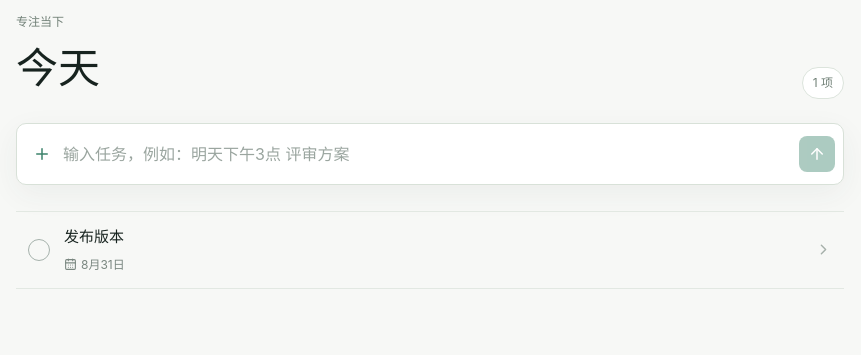
Test: TaskListPage › shows the domain guard when completing a parent with pending children
The width and height of the screenshot is (861, 355).
What coordinates should you click on to do the following:
click the checkbox named "完成“发布版本”"
I would click on:
 (39, 250)
Its box is x1=28 y1=239 x2=50 y2=261.
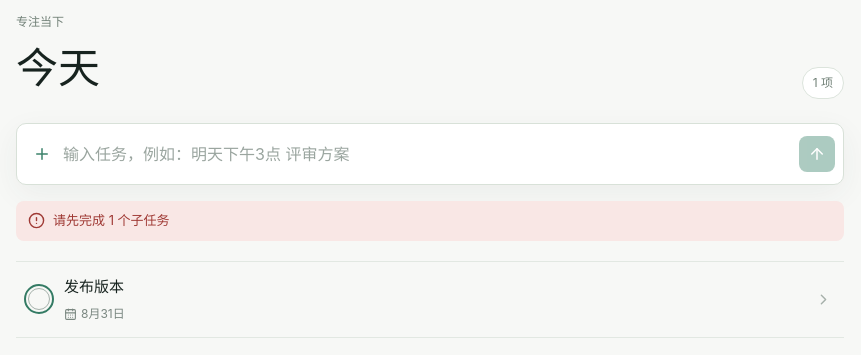
Expected: the text "请先完成 1 个子任务" is shown, x1=16 y1=201 x2=844 y2=240
